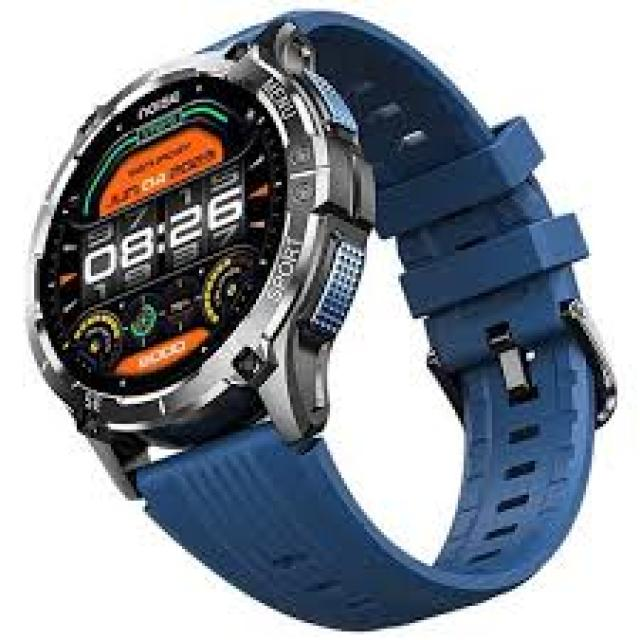objects: (23, 9, 614, 637)
